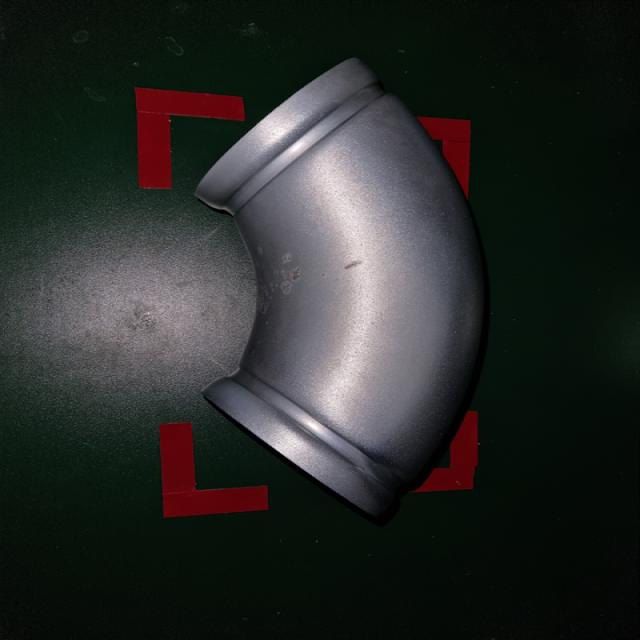Defect: (180, 49, 504, 525)
Hole: (239, 240, 377, 320)
